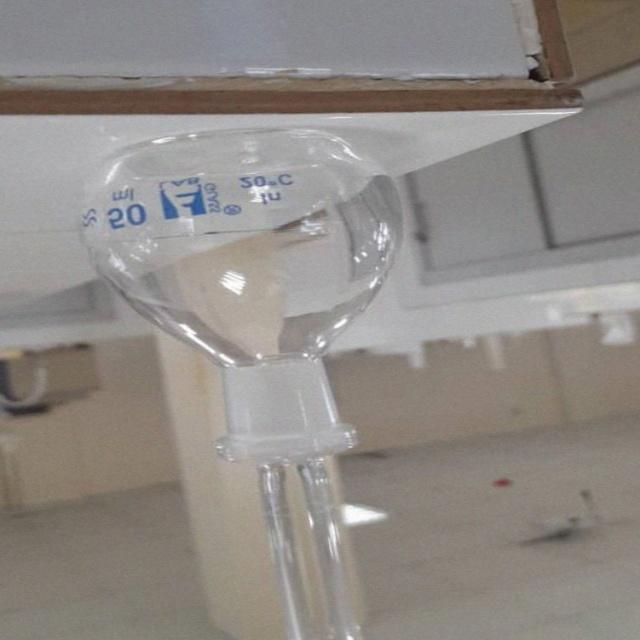Density Bottles for Solids: (50, 109, 478, 640)
